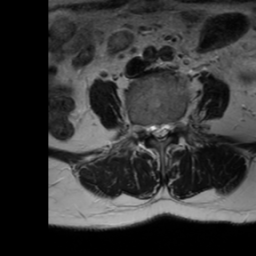CCS_normal: (156, 115, 163, 148)
LFS_normal: (171, 114, 180, 138)
LLS_normal: (163, 113, 171, 142)
RFS_normal: (139, 115, 148, 140)
RLS_normal: (148, 115, 156, 142)
